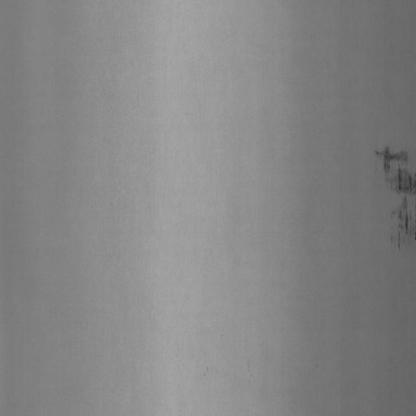inclusion: (370, 131, 415, 258)
